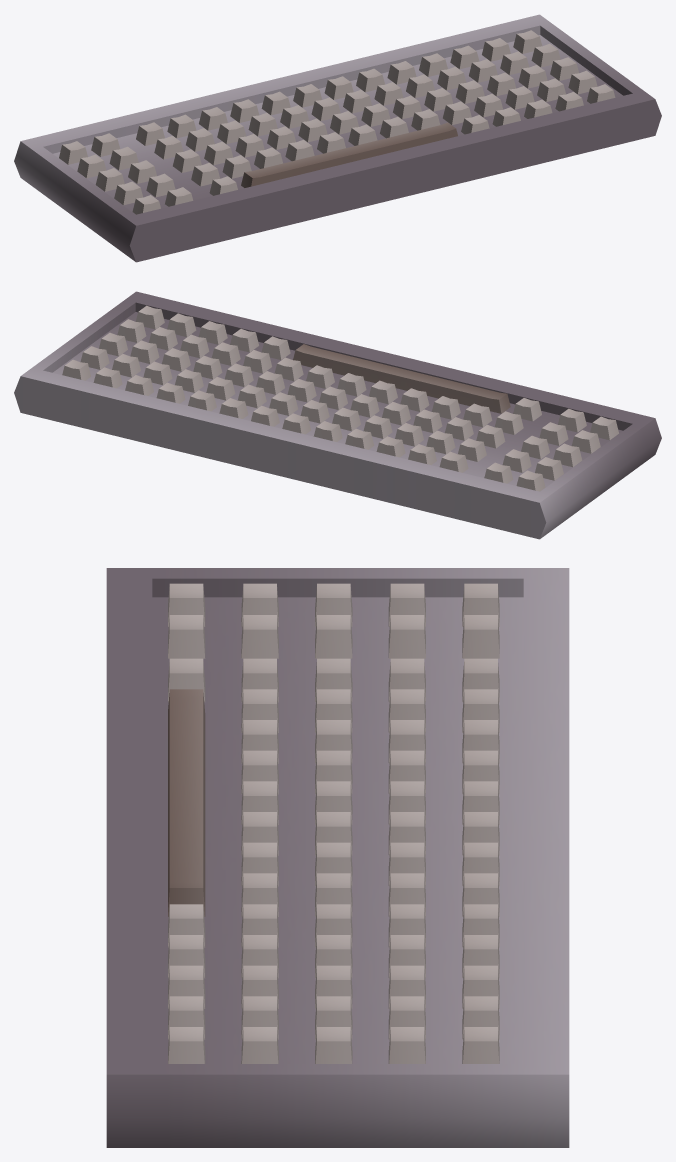
Rendered from Teclado_1.obj.
3 renders of one model, top to bottom at view 1: azimuth 30°, elevation 25°; view 2: azimuth 150°, elevation 25°; view 3: azimuth 270°, elevation 25°, orthographic. The views are drawn at different scales.
Visible parts, largest first — view 1: Teclado; view 2: Teclado; view 3: Teclado.
Boxes of the visible parts, box(x1,y1,x2,y2) form: Teclado: box(14, 14, 661, 262); Teclado: box(14, 291, 661, 539); Teclado: box(106, 568, 569, 1147).
Size of the model in its own units: 42.13 by 3.06 by 15.86.
1 material, 1 textured.
